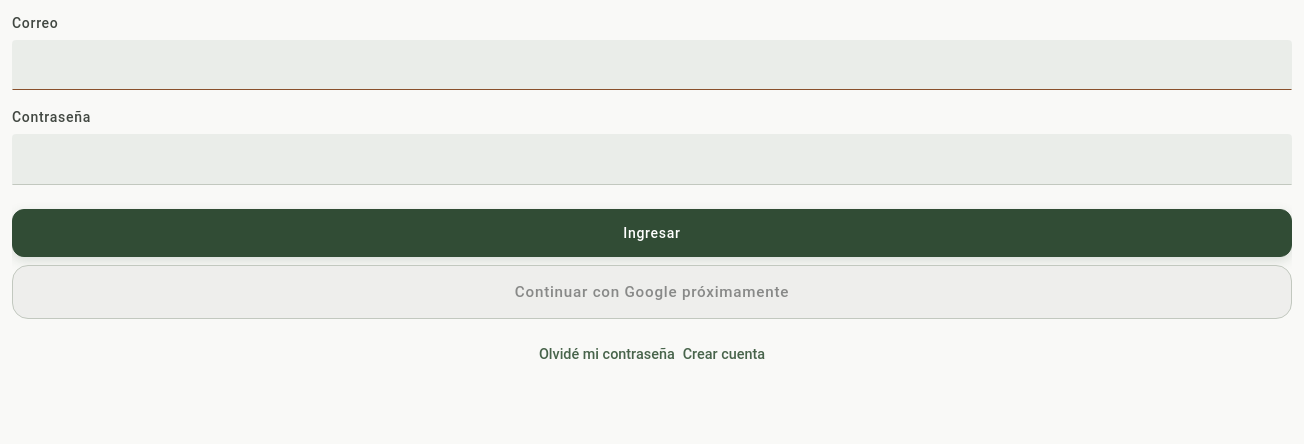
Test: LoginForm › submits credentials through Auth.js and displays sign-in failures
The width and height of the screenshot is (1304, 444).
Type "TULI@EXAMPLE.COM" into the field labelled "Correo" at (652, 65), box [12,40,1292,90]
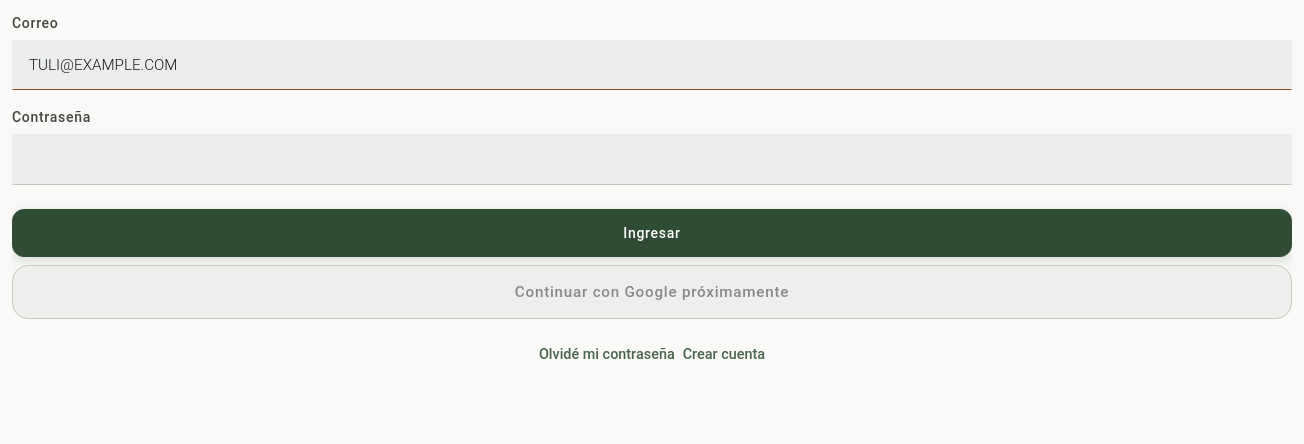
Type "secret123" into the password field labelled "Contraseña" at (652, 160), box [12,134,1292,185]
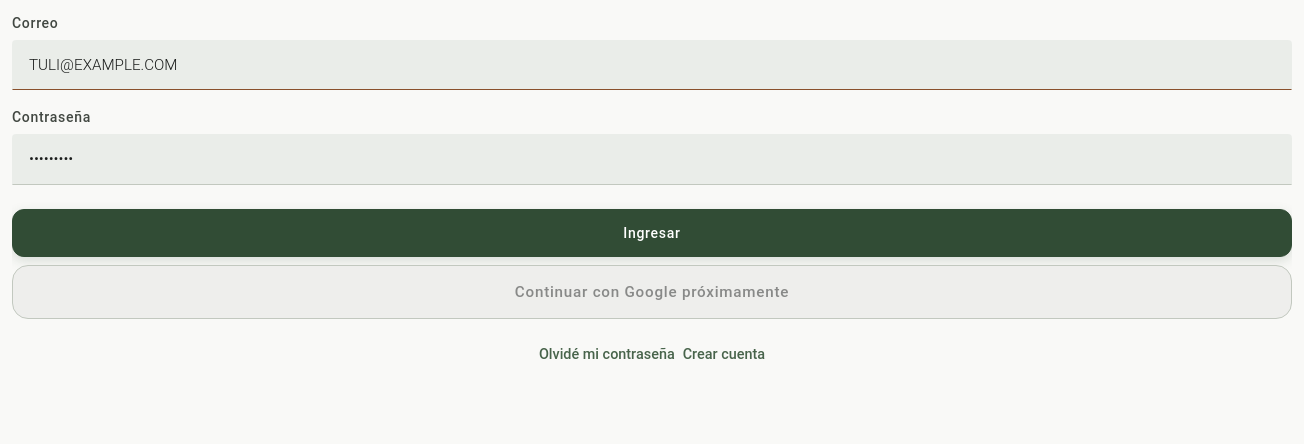
Click the button "Ingresar" at (652, 233), box [12,209,1292,257]
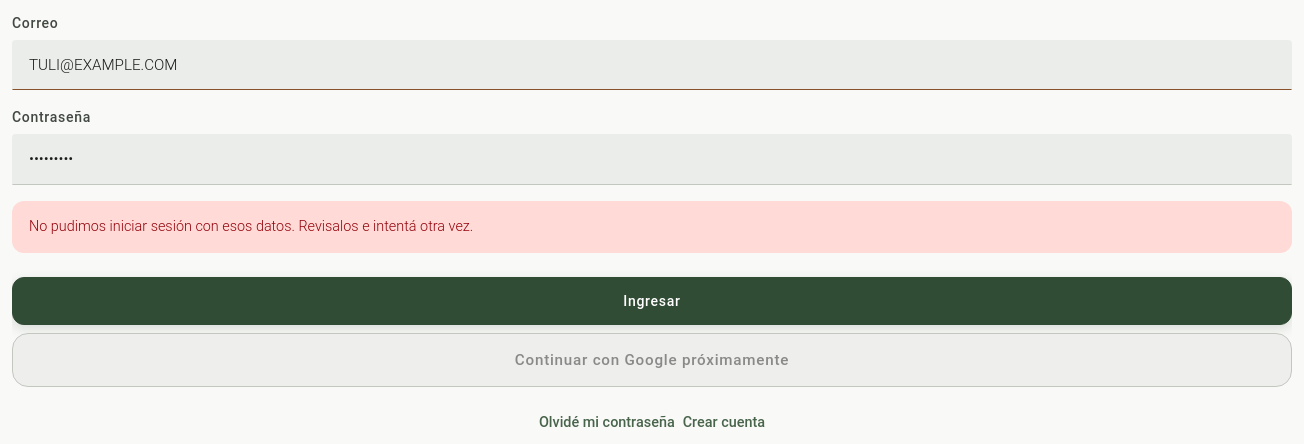
Check: the text "No pudimos iniciar sesión con esos datos. Revisalos e intentá otra vez." is shown, box [29,215,473,238]
